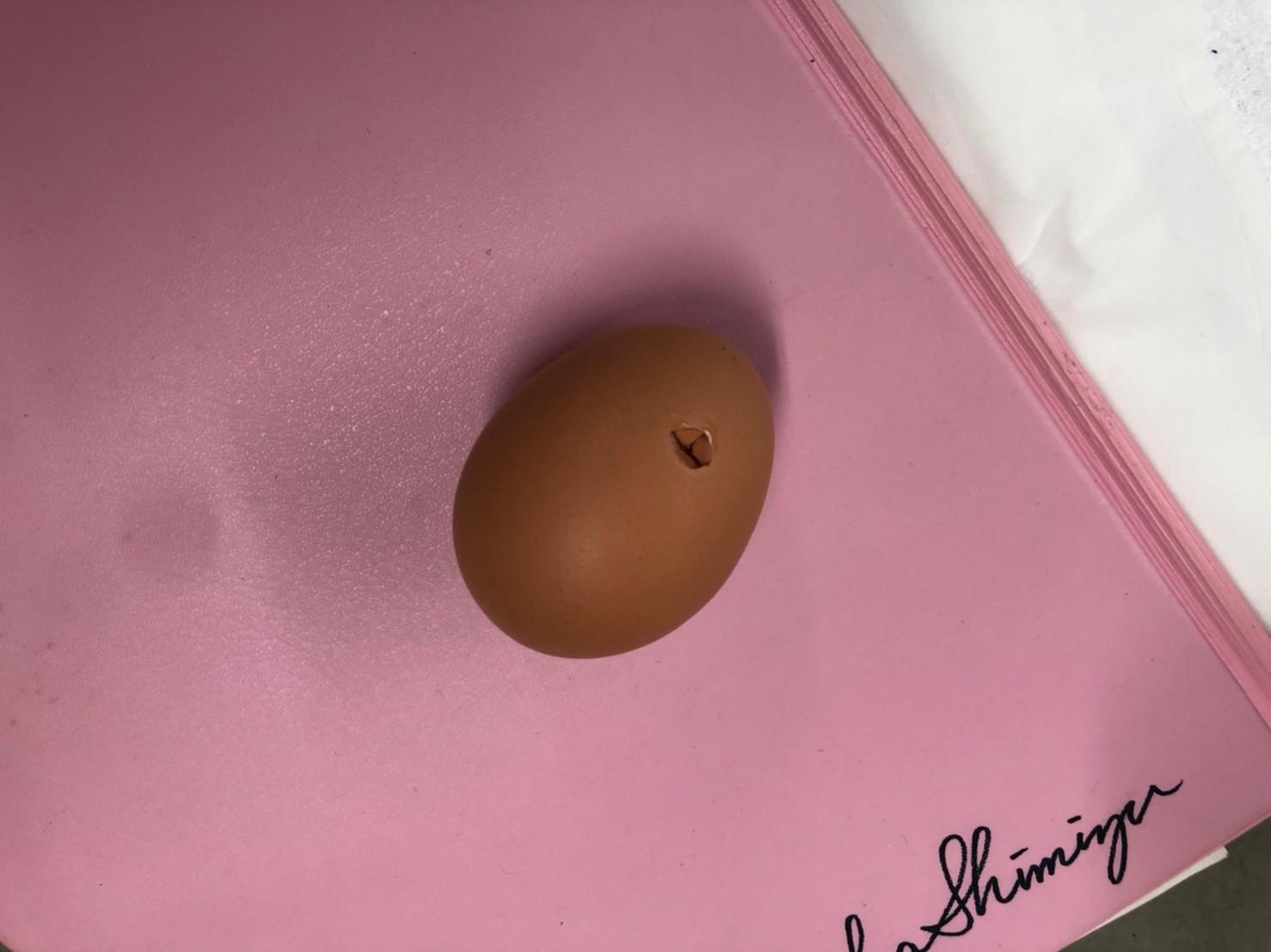egg: (435, 313, 787, 662)
